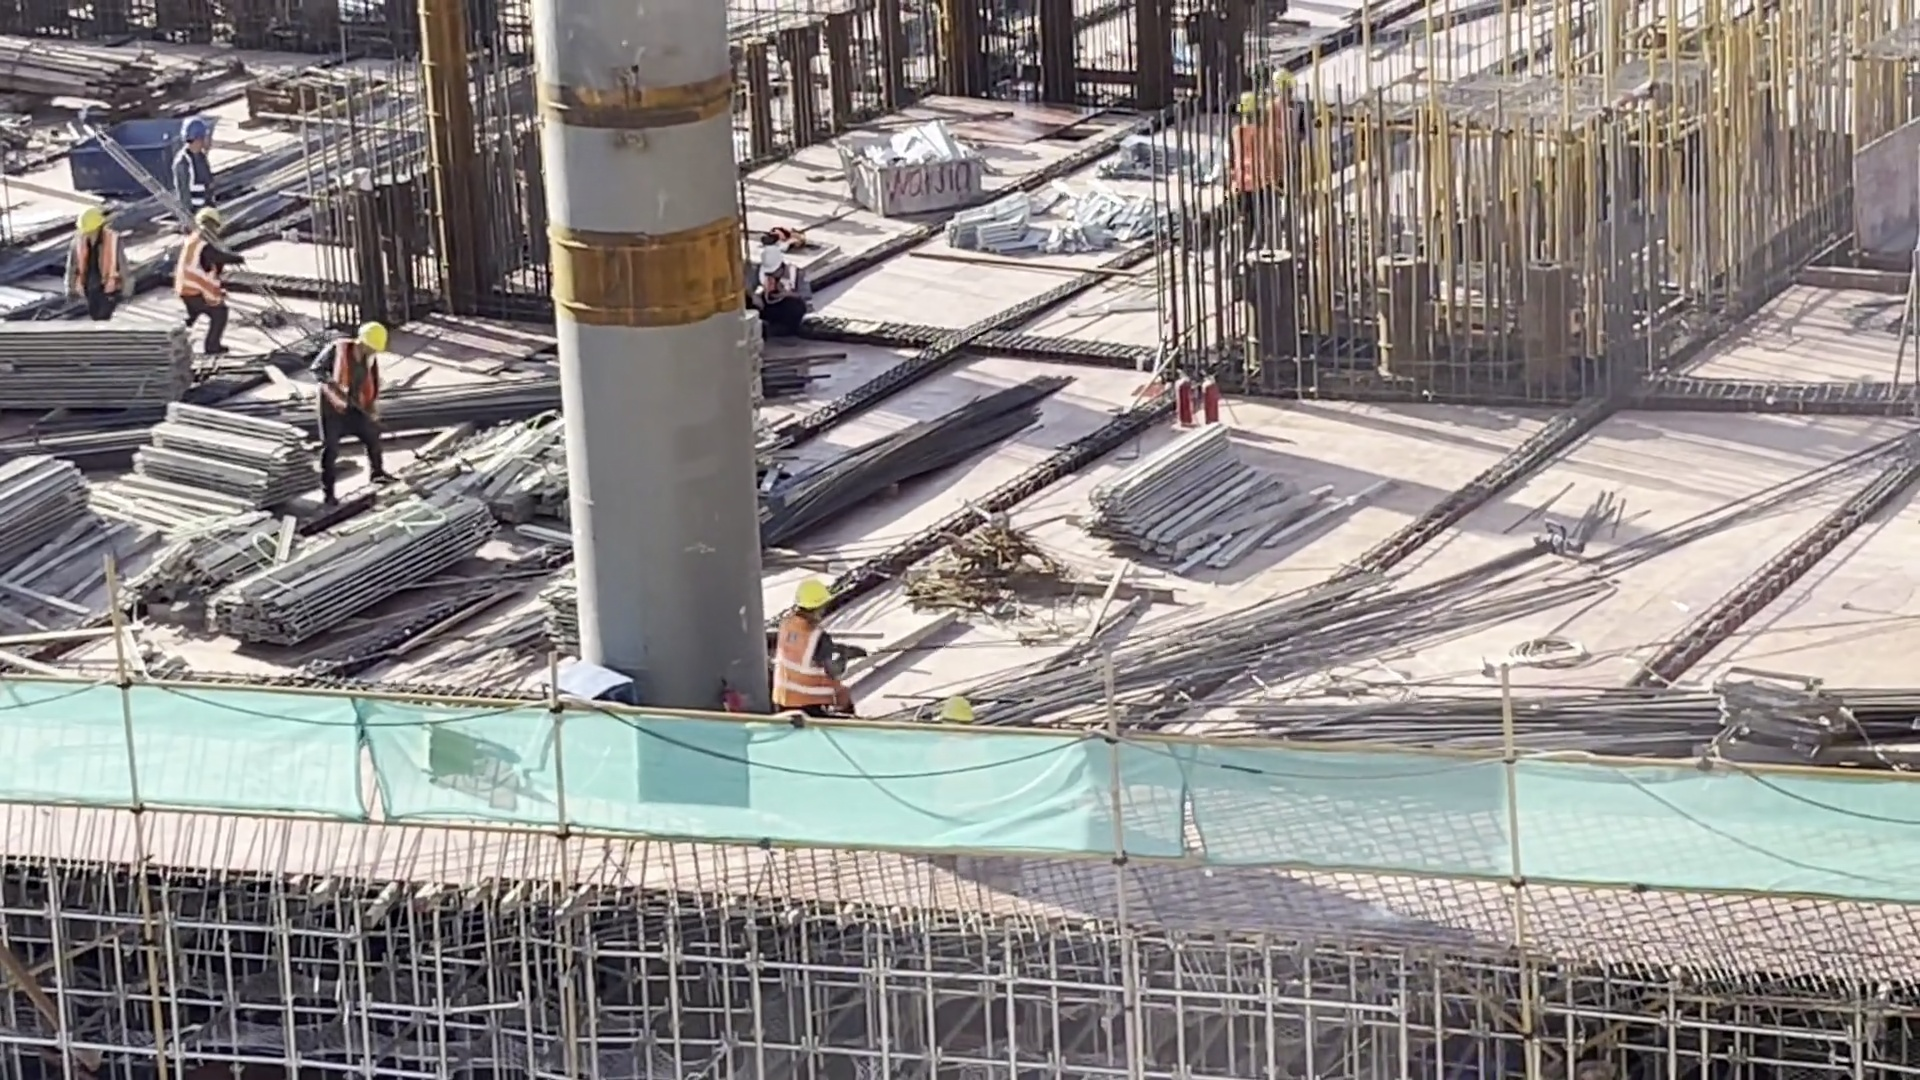helmet: (330, 312, 395, 353), (789, 583, 830, 623), (749, 228, 782, 267), (77, 204, 108, 237), (177, 112, 204, 149), (185, 212, 226, 234), (1238, 87, 1259, 117)
person: (303, 297, 397, 501), (769, 560, 864, 727), (51, 194, 137, 332), (173, 198, 245, 360), (1215, 78, 1281, 249), (156, 105, 226, 226), (738, 231, 811, 327)
vest: (778, 604, 844, 720), (171, 217, 237, 315), (314, 332, 377, 415), (62, 232, 129, 297), (171, 149, 217, 193)
